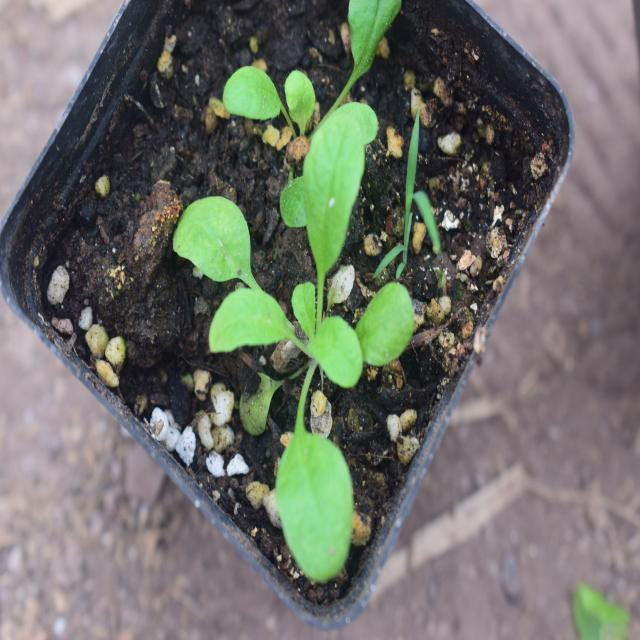Shepherd_Purse: (140, 84, 408, 560)
